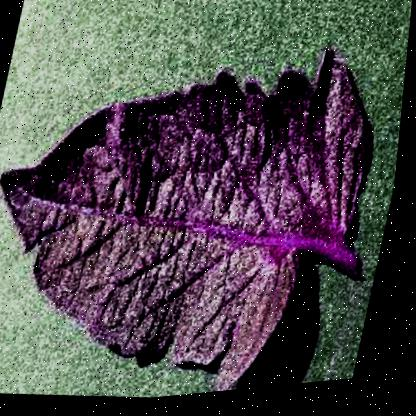Healthy: (0, 12, 412, 415)
